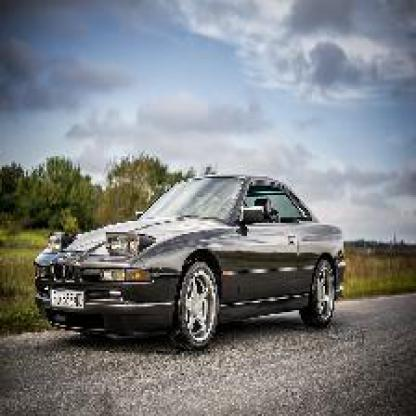not_emergency: (28, 167, 360, 338)
